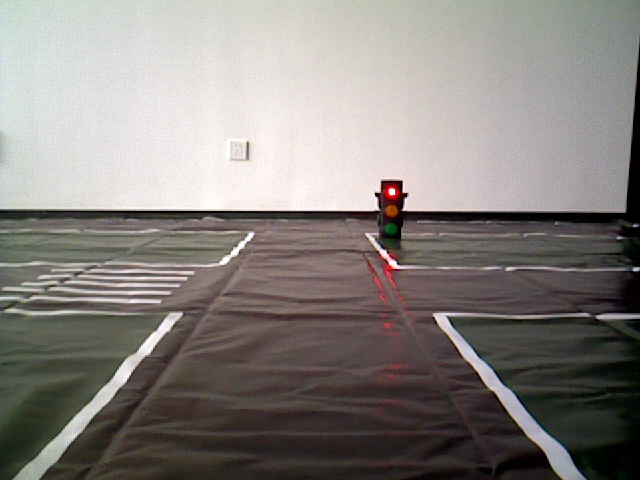red: (379, 181, 400, 244)
